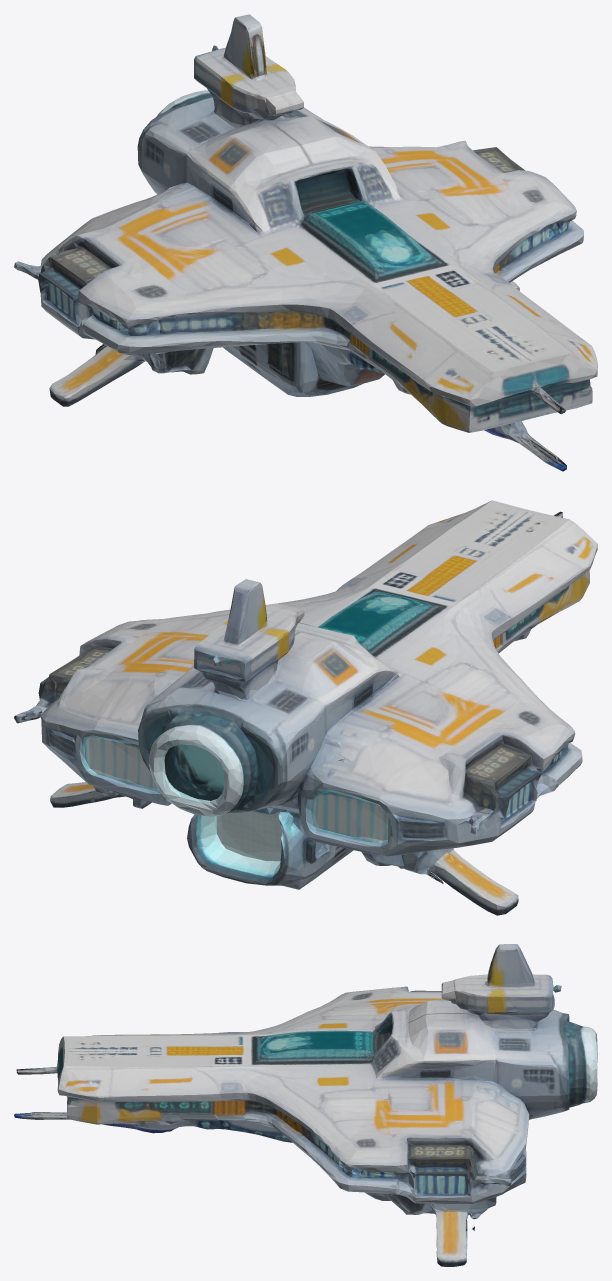
Rendered from Paragon Shuttle.glb.
The picture shows the model from 3 angles, top to bottom: view 1: azimuth 30°, elevation 25°; view 2: azimuth 150°, elevation 25°; view 3: azimuth 270°, elevation 25°; orthographic projection. The views are drawn at different scales.
Parts seen in each view (by area): view 1: world; view 2: world; view 3: world.
Boxes of the visible parts, x1,y1,x2,y2 form: world: [14, 14, 597, 471]; world: [14, 500, 597, 915]; world: [14, 944, 597, 1266].
Size of the model in its own units: 0.7299 by 0.4542 by 0.996.
Materials: 1 (1 with a texture image).
